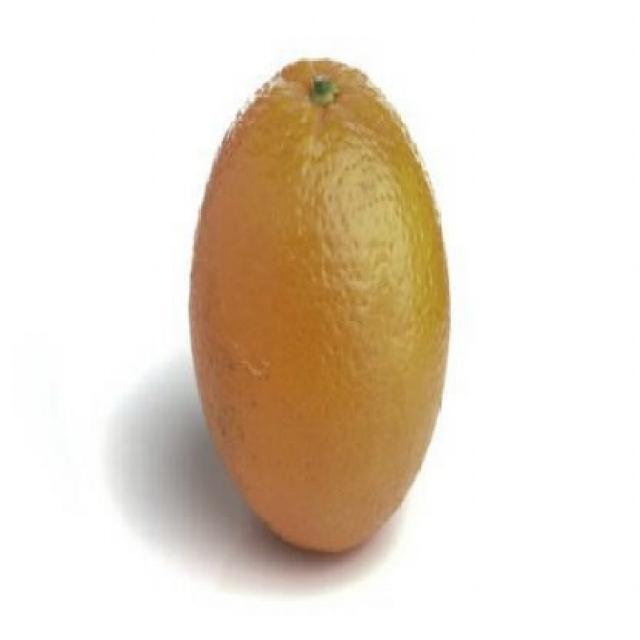Jeruk Sudah Matang: (190, 55, 452, 558)
